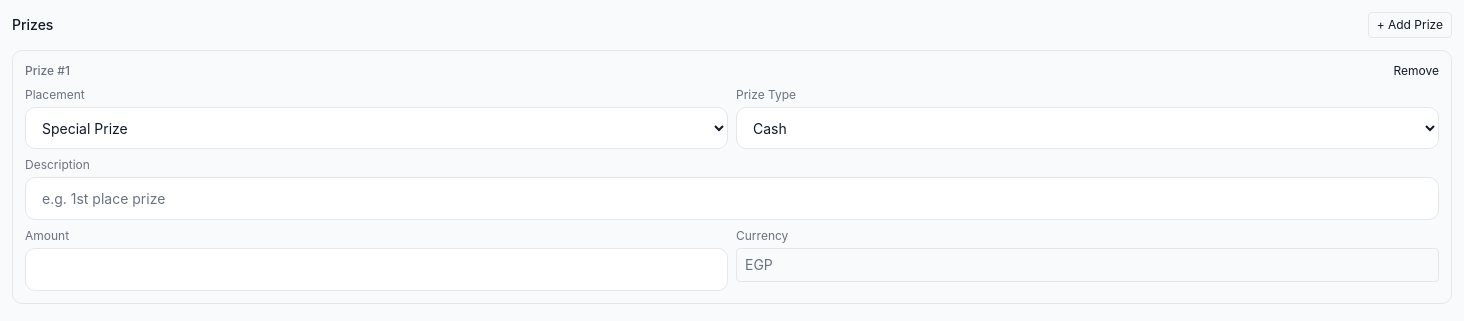
PrizeEditor (Group 2) › non-cash type hides amount/currency controls
Switch the first row to a non-cash type.
Step 1. Select "Gold Medal" in the dropdown showing "Cash" below "Prize Type" → (1088,128), box [736, 107, 1439, 149]
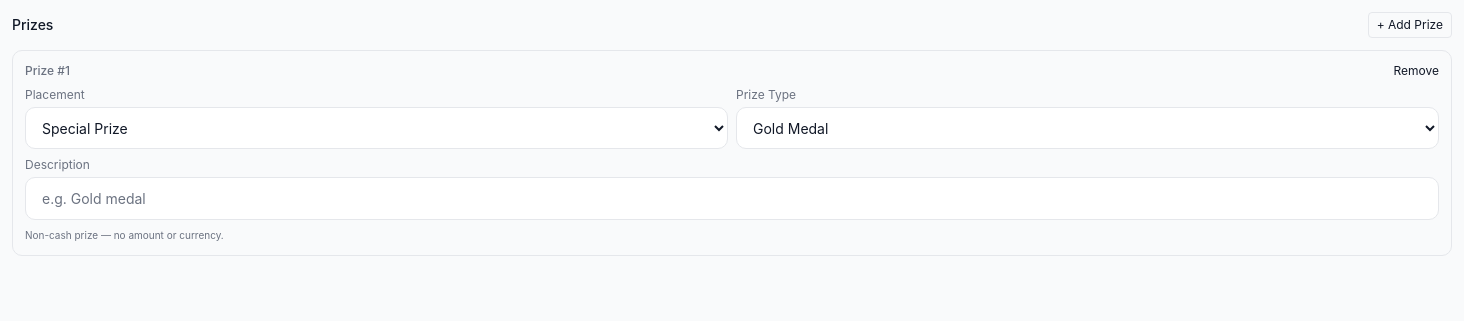
Expected: the text "Non-cash prize — no amount or currency." is shown, [25, 229, 224, 241]
